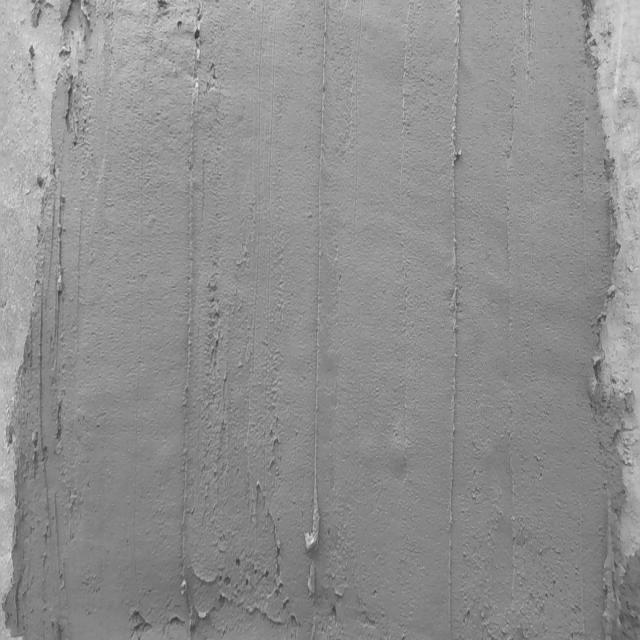trowels marks: (302, 1, 332, 640), (177, 2, 206, 640), (442, 1, 468, 640)
